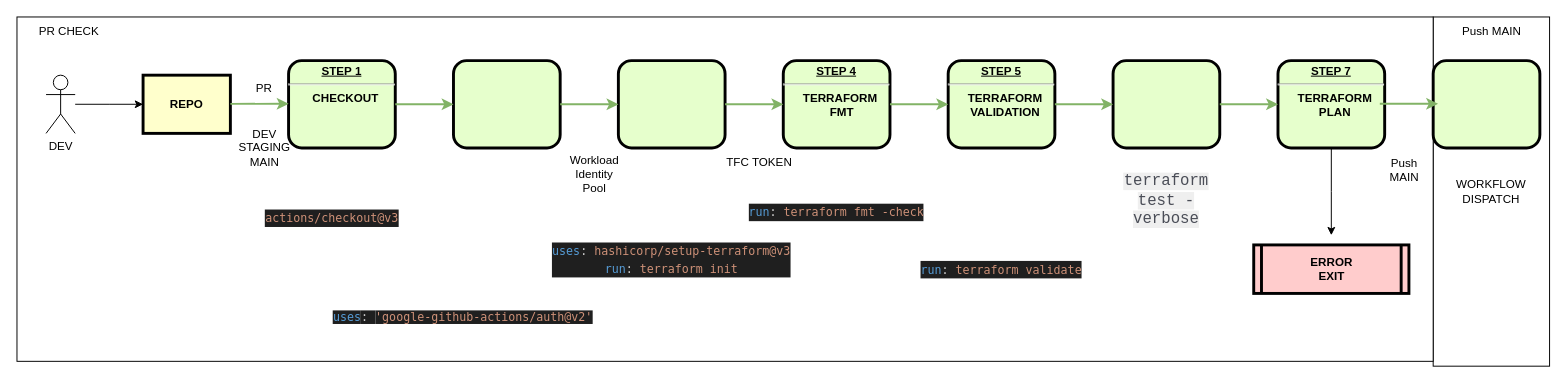
The diagram is 1567 pixels wide and 383 high, and some of its shapes have lost their labels. Here are the shapes that lost their labels. From the top down, the centre of each, then its label:
the point at 506,104: STEP 2 GCLOUD SA AUTH
the point at 671,104: STEP 3 TERRAFORM SET UP INIT
the point at 1166,104: STEP 6 TERRAFORM TEST
the point at 1486,104: STEP 8 TERRAFORM APPLY
